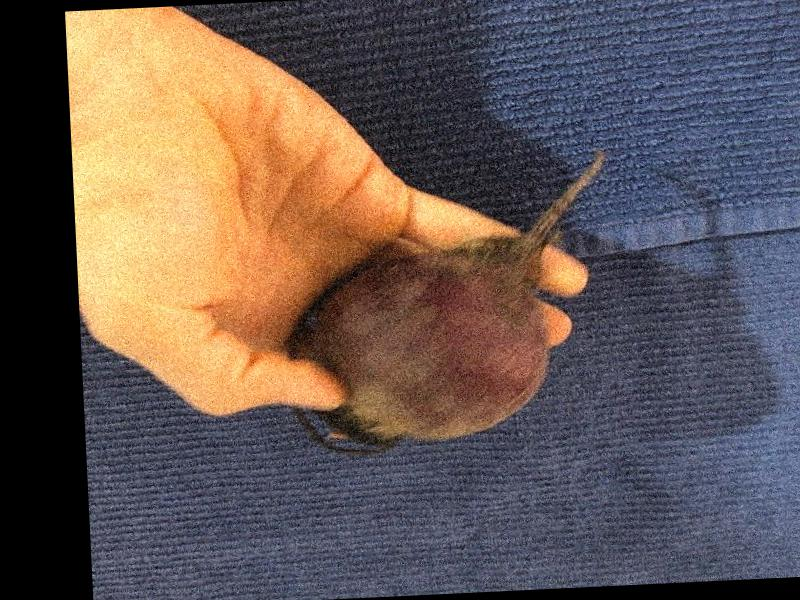Beet: (281, 149, 620, 458)
